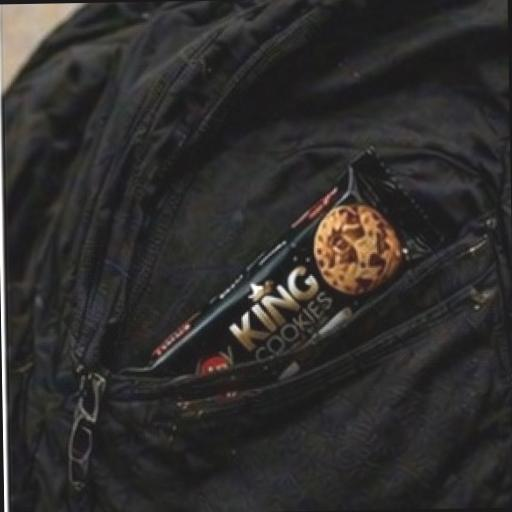king_cooking: (128, 114, 446, 430)
